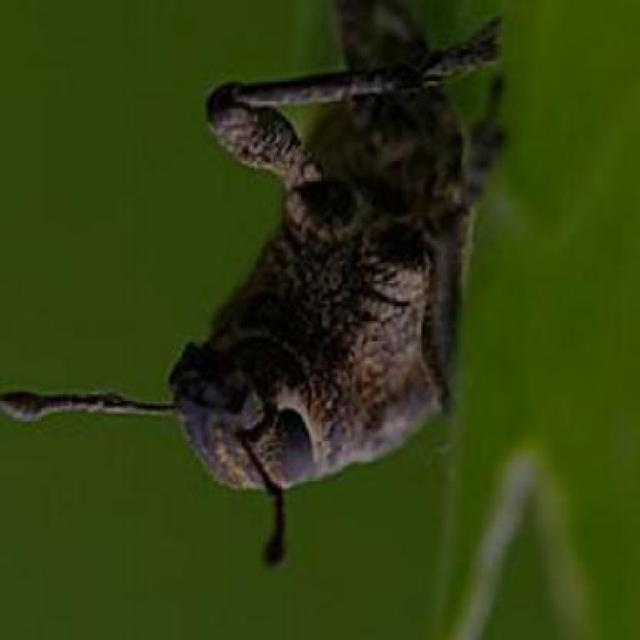rice-bug: (172, 32, 488, 516)
